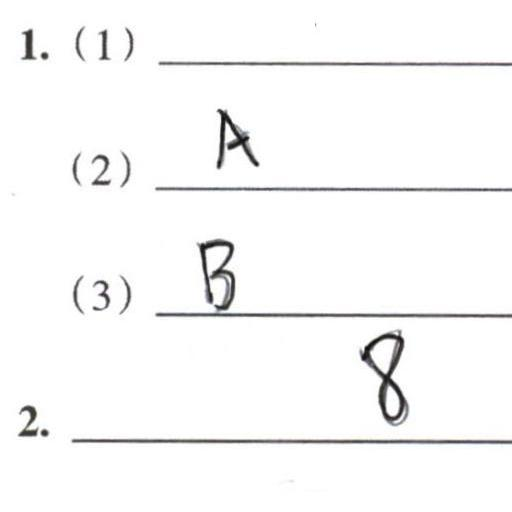ans: (350, 322, 412, 425), (190, 228, 239, 311), (213, 109, 260, 172)
